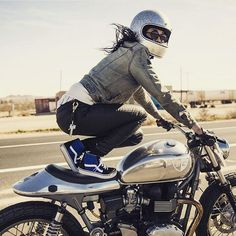helmet: (128, 8, 174, 53)
